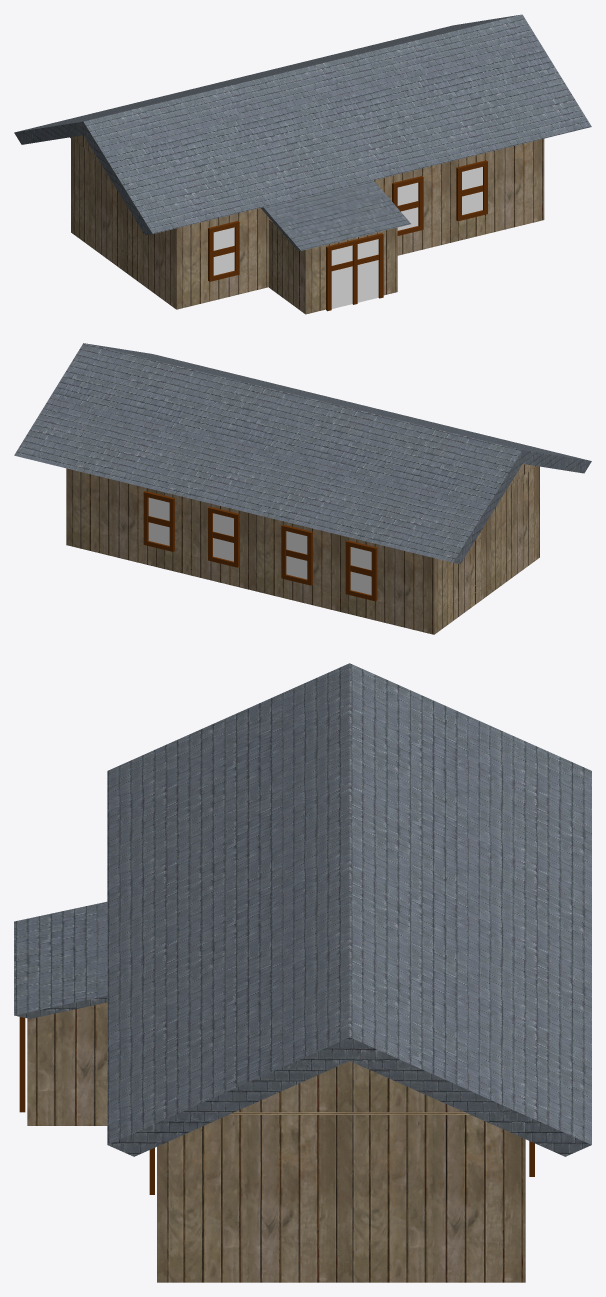
The model's file is VisitorCenter.glb.
The picture shows the model from 3 angles, top to bottom: view 1: azimuth 30°, elevation 25°; view 2: azimuth 150°, elevation 25°; view 3: azimuth 270°, elevation 25°; orthographic projection. The views are drawn at different scales.
Parts seen in each view (by area): view 1: mergedBlocks(Clone); view 2: mergedBlocks(Clone); view 3: mergedBlocks(Clone).
Boxes of the visible parts, left/top/right/bottom form: mergedBlocks(Clone): left=14, top=14, right=591, bottom=314; mergedBlocks(Clone): left=14, top=343, right=591, bottom=634; mergedBlocks(Clone): left=14, top=663, right=591, bottom=1282.
Size of the model in its own units: 4.78 by 1.63 by 3.12.
Materials: 4 (2 with a texture image).
